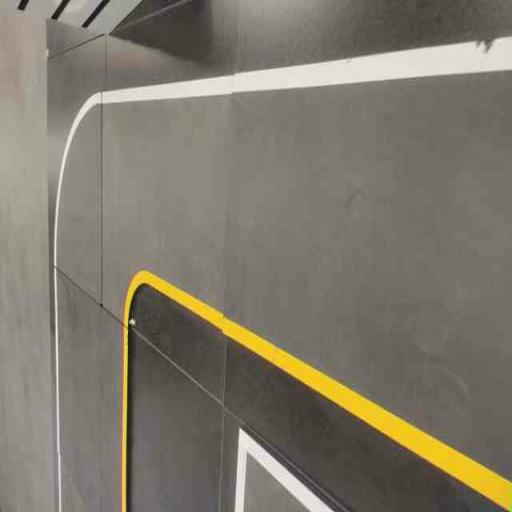left: (22, 68, 182, 326)
